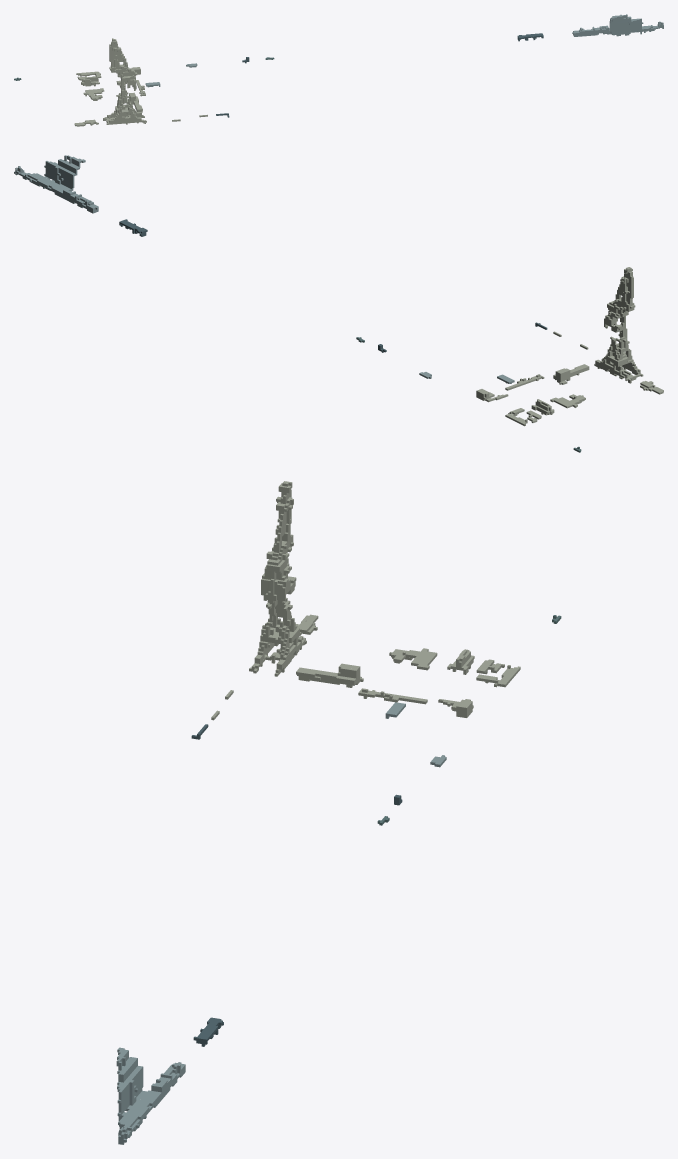
The picture shows the model from 3 angles, top to bottom: view 1: azimuth 30°, elevation 25°; view 2: azimuth 150°, elevation 25°; view 3: azimuth 270°, elevation 25°; orthographic projection. The views are drawn at different scales.
Visible parts, largest first — view 1: measured-industrial; view 2: measured-industrial; view 3: measured-industrial.
Boxes of the visible parts, x1,y1,x2,y2 form: measured-industrial: (14,14,663,126); measured-industrial: (14,155,663,452); measured-industrial: (116,481,561,1144).
Bounding box in the file's own units: 443 × 65.02 × 157.
